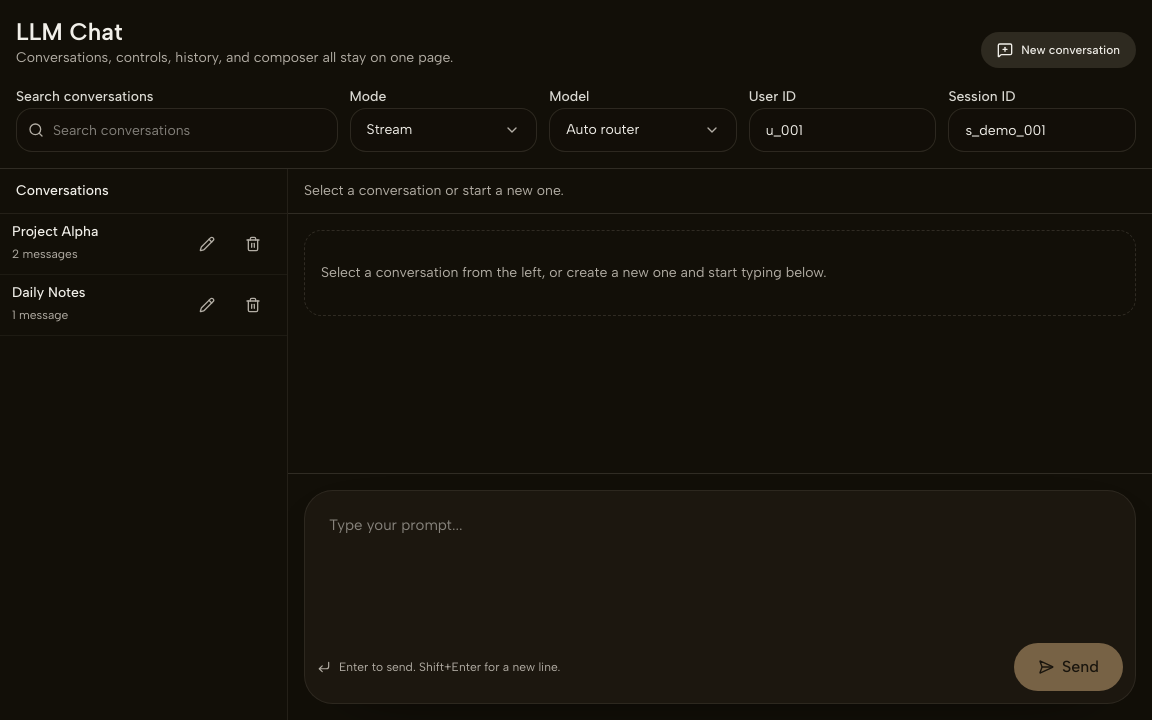
App conversation workspace › shows the latest per-user rate limit status after a successful send
The image size is (1152, 720).
Check: the text "Project Alpha" is shown, box x1=12 y1=223 x2=98 y2=240
Step 1. Click the dropdown with id "mode-select" → (443, 130), box x1=350 y1=108 x2=537 y2=152
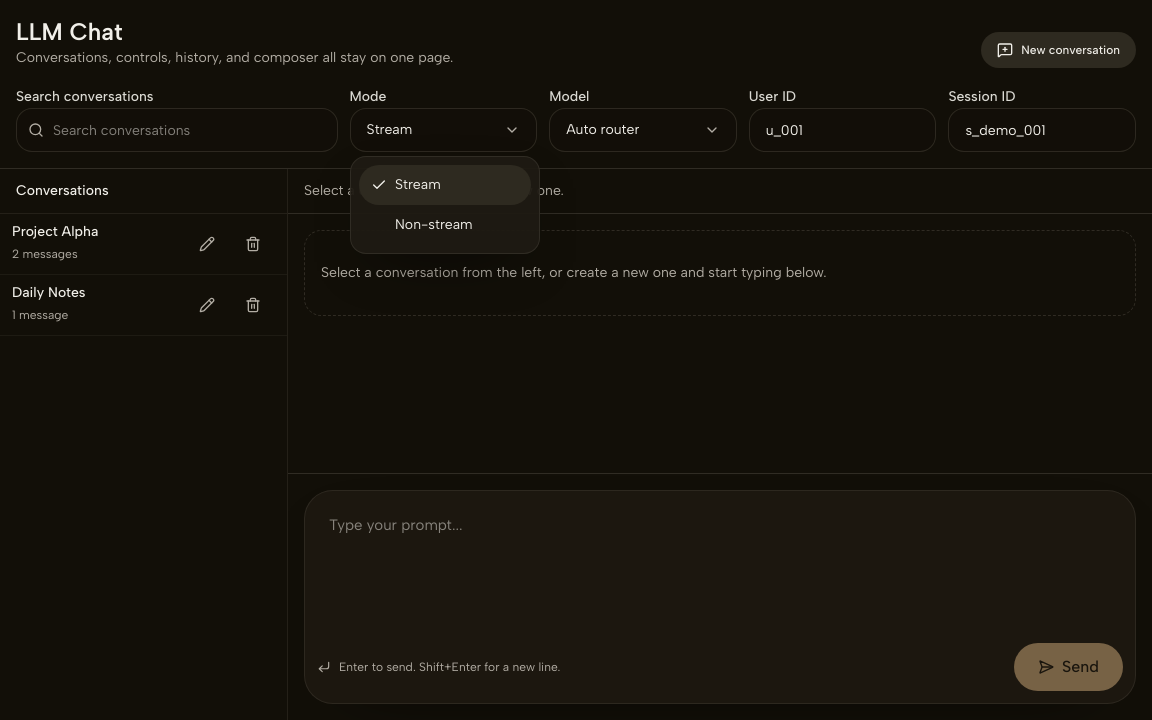
Step 2. Click the option "Non-stream" → (434, 224), box x1=395 y1=216 x2=473 y2=233
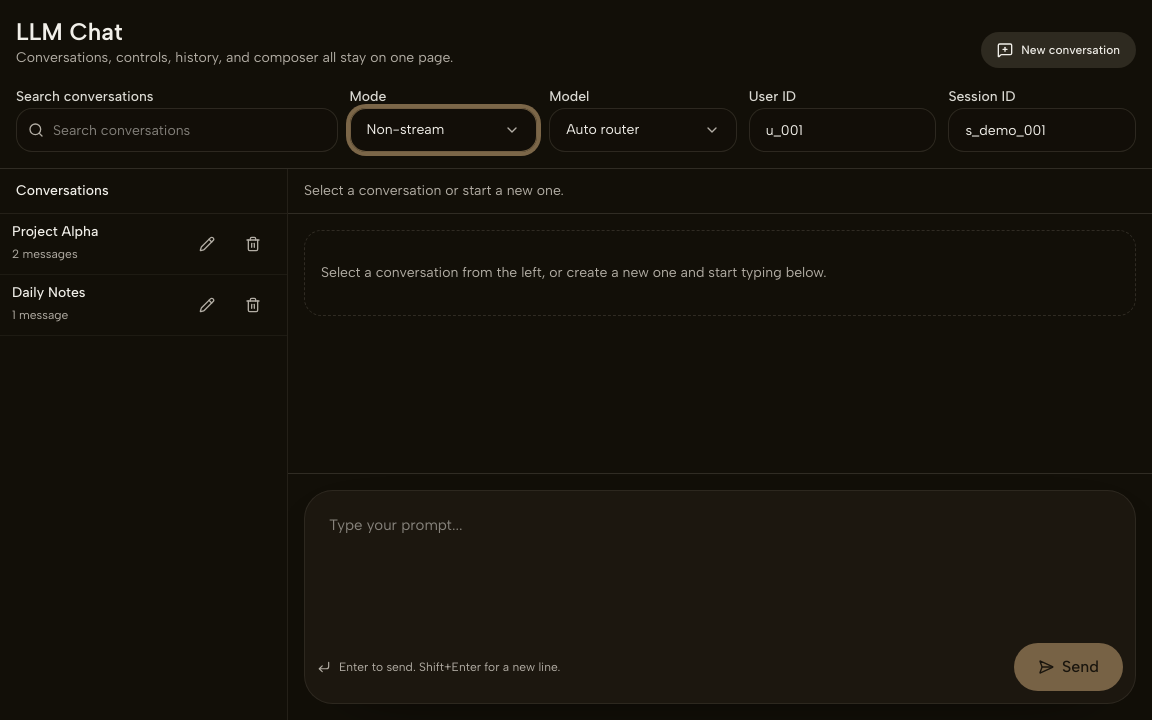
Step 3. Type "Show rate limit status" into the text box with placeholder "Type your prompt..." → (720, 567), box x1=317 y1=503 x2=1123 y2=631
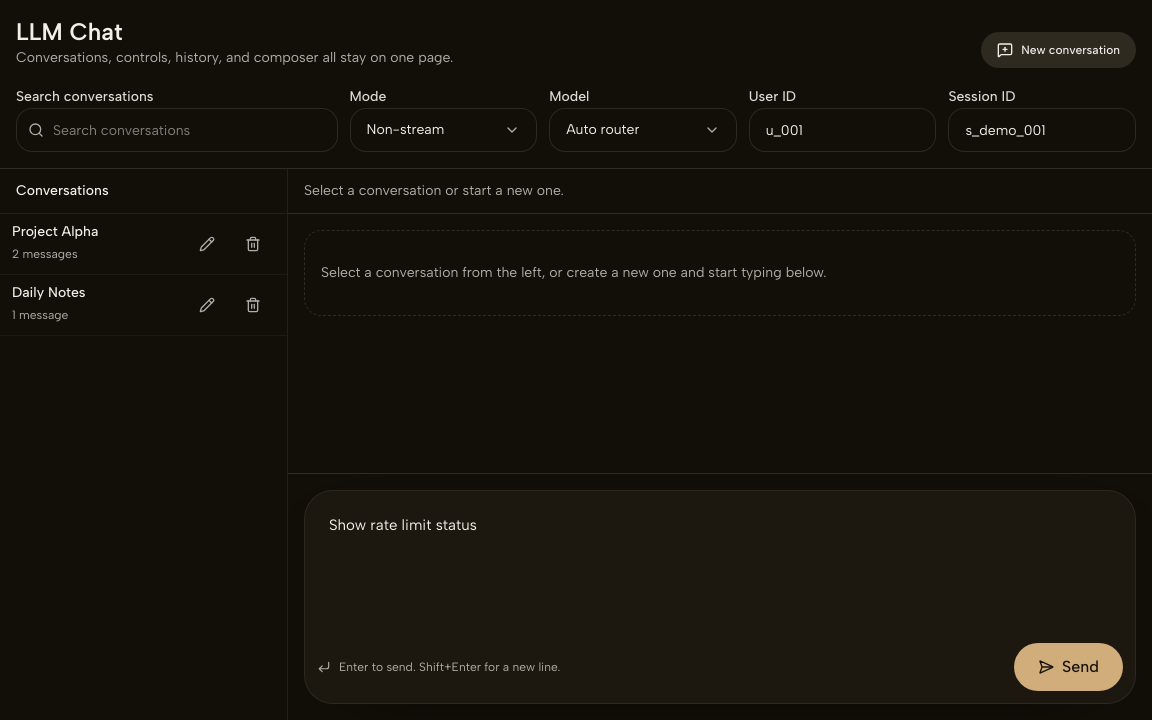
Step 4. Click the button "Send" → (1069, 667), box x1=1014 y1=643 x2=1123 y2=691
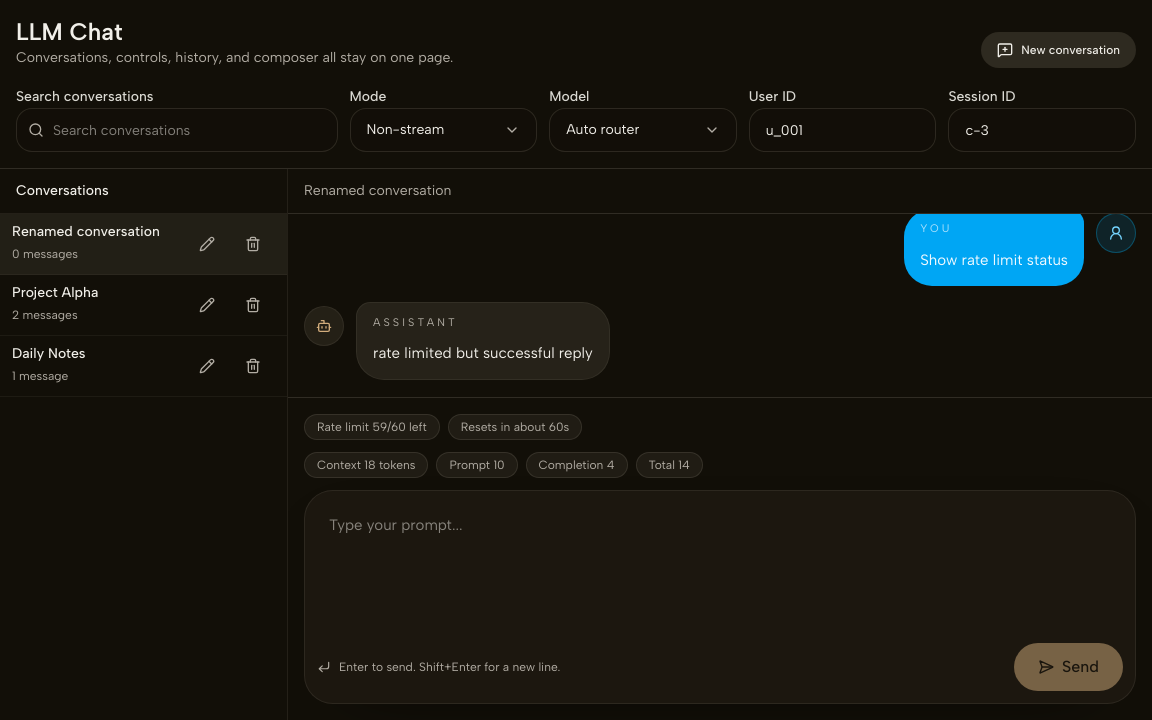
Check: the text "rate limited but successful reply" is shown, box x1=373 y1=339 x2=593 y2=367
Check: the text "Rate limit 59/60 left" is shown, box x1=304 y1=414 x2=440 y2=440
Check: the text "Resets in about 60s" is shown, box x1=448 y1=414 x2=582 y2=440
